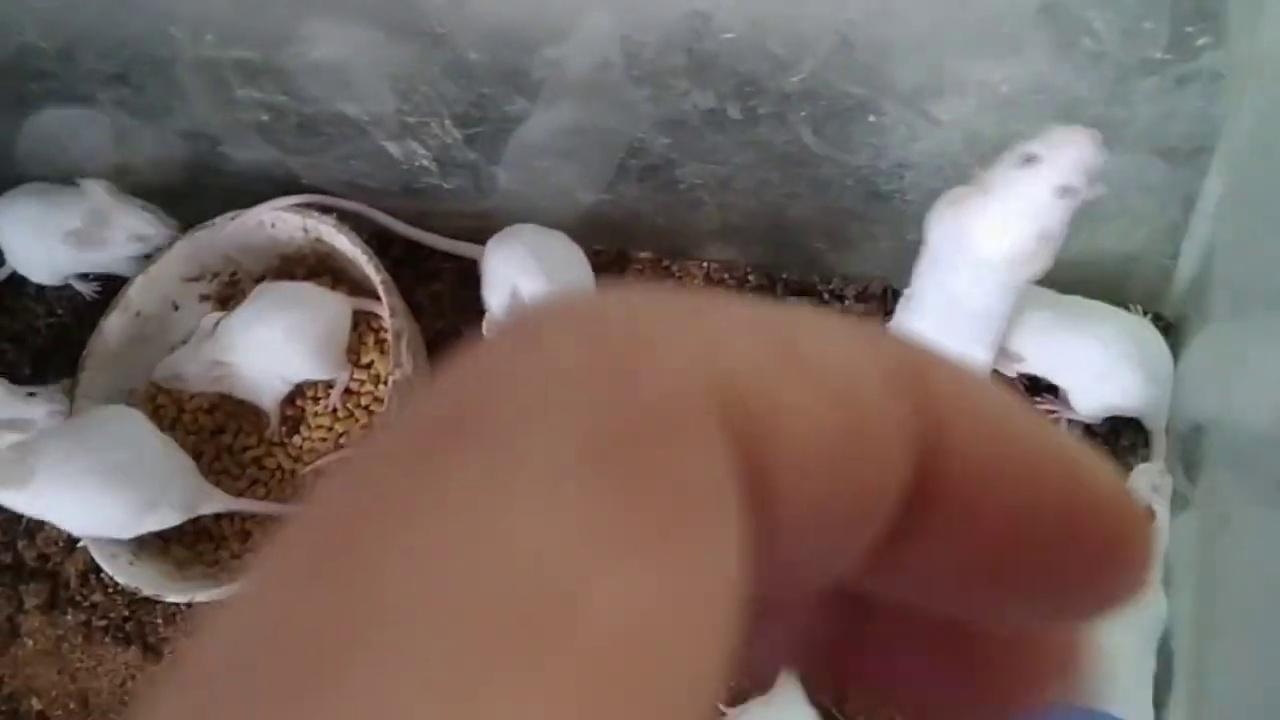rat: (888, 125, 1108, 380), (231, 192, 595, 332), (0, 374, 300, 539), (150, 282, 389, 436), (997, 285, 1174, 459), (1066, 462, 1176, 720), (0, 175, 179, 302)
